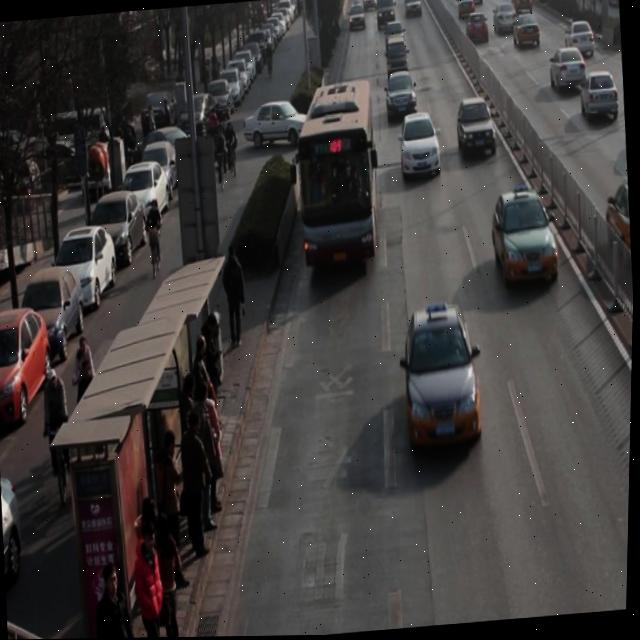car: (401, 304, 486, 451), (489, 186, 562, 292), (399, 112, 443, 180), (604, 174, 634, 271), (456, 99, 499, 161), (579, 73, 621, 126), (548, 47, 588, 97), (386, 71, 419, 122), (562, 21, 595, 60), (512, 12, 541, 51), (492, 5, 517, 35), (466, 14, 489, 45), (384, 21, 405, 50), (347, 2, 366, 33), (402, 0, 422, 20), (456, 0, 475, 20), (511, 0, 533, 14)
truck: (386, 38, 409, 79), (374, 0, 395, 34)
van: (291, 81, 383, 273)
